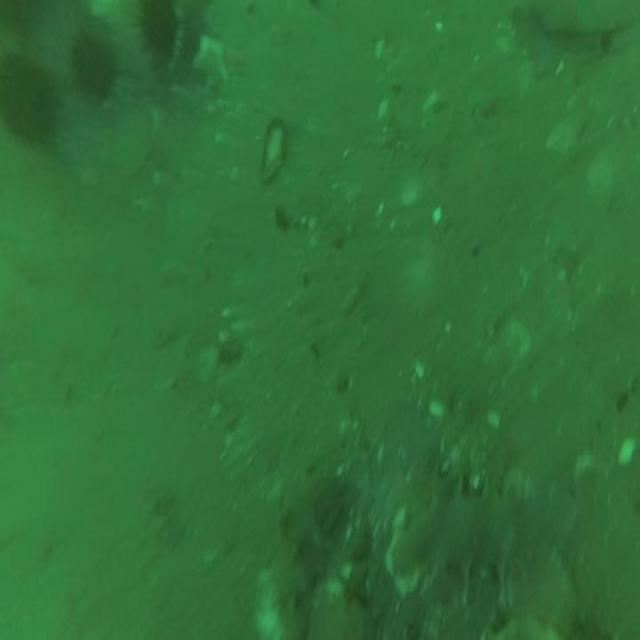echinus: (0, 35, 70, 153), (134, 1, 215, 80), (63, 18, 126, 112)
holothurian: (387, 457, 584, 616)
starfish: (190, 33, 237, 106)
